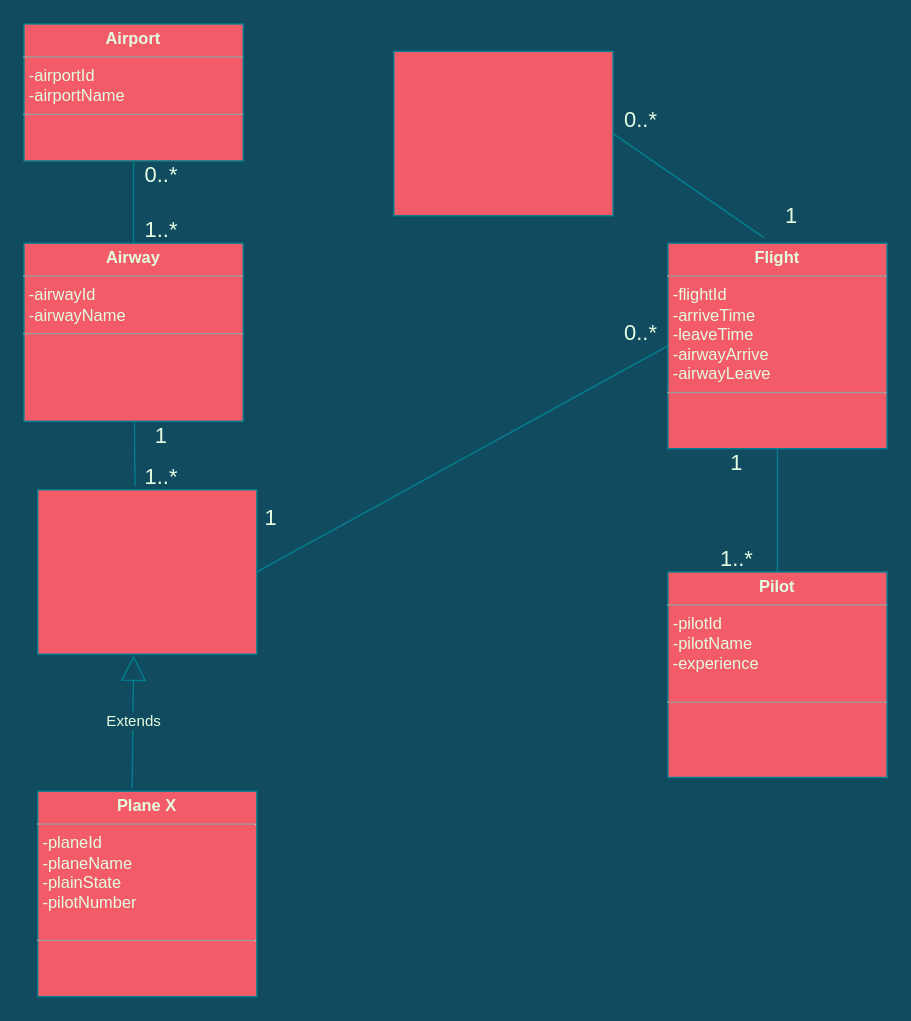
Image size: 911x1021. Some labels were removed from this diagram. The shapes that lost their labels are listed below. From the top down, each one's box as (x1, y1, x2, y2) in pixels, then its label:
(393, 50, 613, 216): Person -citizienId -personName
(36, 488, 257, 654): Plane -planeId -planeName -planeState
